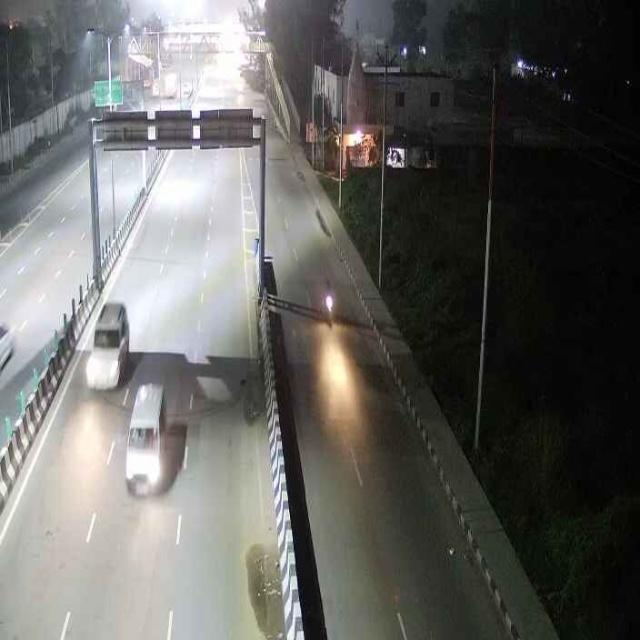car: (122, 382, 173, 491), (78, 298, 134, 391)
